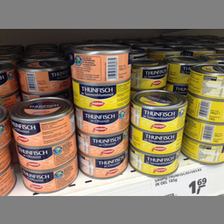fish: (11, 96, 76, 147), (69, 43, 133, 85), (131, 91, 186, 131), (71, 76, 132, 111), (18, 163, 82, 193), (17, 57, 69, 92), (129, 127, 189, 157), (73, 107, 131, 137), (128, 149, 185, 178), (14, 143, 78, 168), (76, 131, 130, 157), (76, 152, 130, 176), (187, 63, 222, 100)
